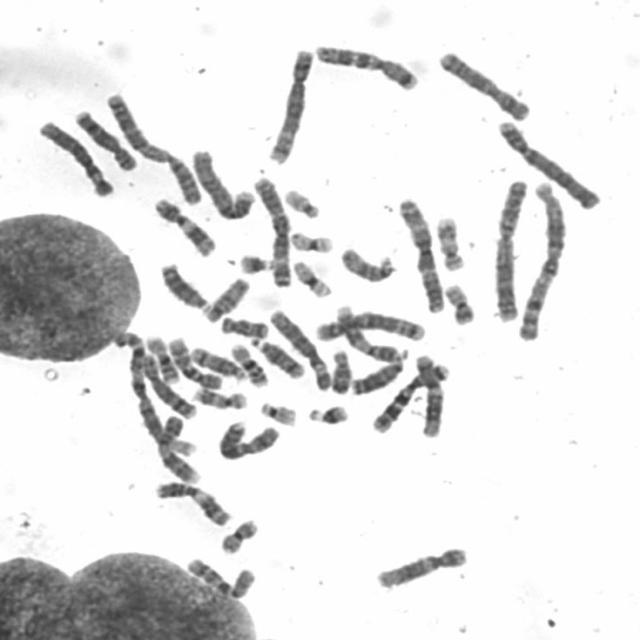A1: (112, 324, 198, 460), (513, 176, 570, 342)
A2: (101, 86, 205, 206), (489, 172, 532, 323)
A3: (393, 192, 448, 314), (248, 170, 295, 289)
B4: (492, 113, 604, 211), (186, 142, 258, 222)
B5: (262, 42, 317, 165), (310, 308, 429, 342)
C10: (181, 551, 260, 602), (163, 330, 225, 391)
C11: (148, 191, 219, 257), (150, 476, 234, 528)
C12: (370, 540, 472, 590), (411, 348, 448, 439)
C6: (33, 114, 118, 198), (266, 303, 335, 392)
C7: (368, 356, 453, 434), (308, 37, 422, 92)
C8: (69, 103, 141, 172), (134, 349, 199, 420)
C9: (332, 300, 405, 362), (153, 409, 202, 484)
D13: (154, 256, 213, 312), (347, 351, 408, 396)
D14: (246, 332, 308, 380), (186, 340, 250, 382)
D15: (336, 240, 401, 284), (197, 271, 252, 323)
E16: (226, 337, 272, 388), (141, 328, 182, 384)
E17: (432, 210, 468, 272), (188, 382, 251, 411)
E18: (215, 310, 272, 339), (326, 344, 355, 394)
F19: (288, 254, 336, 299), (284, 225, 336, 254)
F20: (440, 276, 480, 326), (215, 513, 261, 555)
G21: (303, 399, 352, 426), (234, 247, 277, 276)
G22: (279, 182, 324, 219), (255, 394, 301, 426)
X: (432, 44, 534, 122), (213, 415, 284, 462)
